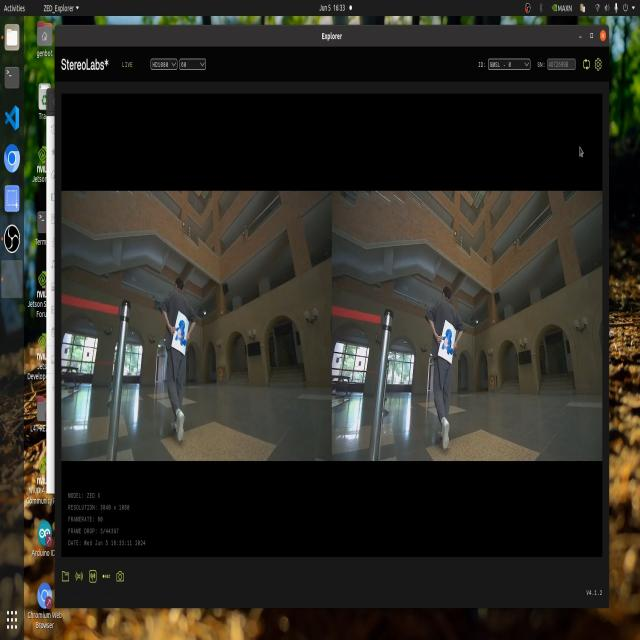blue: (177, 327, 196, 353), (441, 329, 457, 356)
